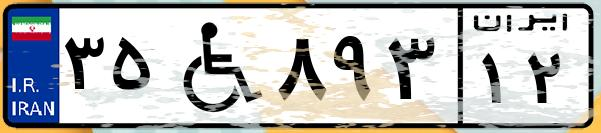1: (475, 38, 525, 113)
2: (525, 38, 570, 115)
3: (385, 28, 445, 110), (57, 26, 110, 100)
5: (110, 28, 158, 98)
8: (270, 28, 330, 110)
9: (330, 28, 385, 110)
ژ (معلولین و جانبازان): (158, 12, 270, 120)
